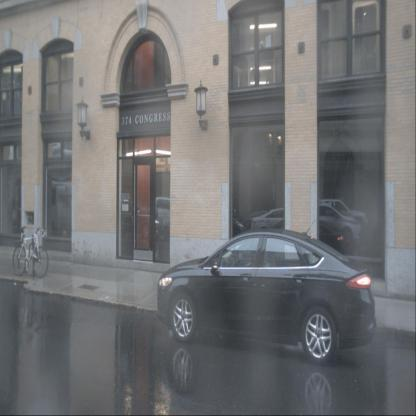vehicle-bicycle: (13, 226, 49, 278)
vehicle-car: (156, 228, 377, 364), (250, 218, 345, 264), (305, 203, 361, 249), (252, 207, 302, 240), (124, 203, 164, 241), (237, 211, 290, 234)
vehicle-truck: (303, 199, 369, 237), (155, 196, 176, 238)
